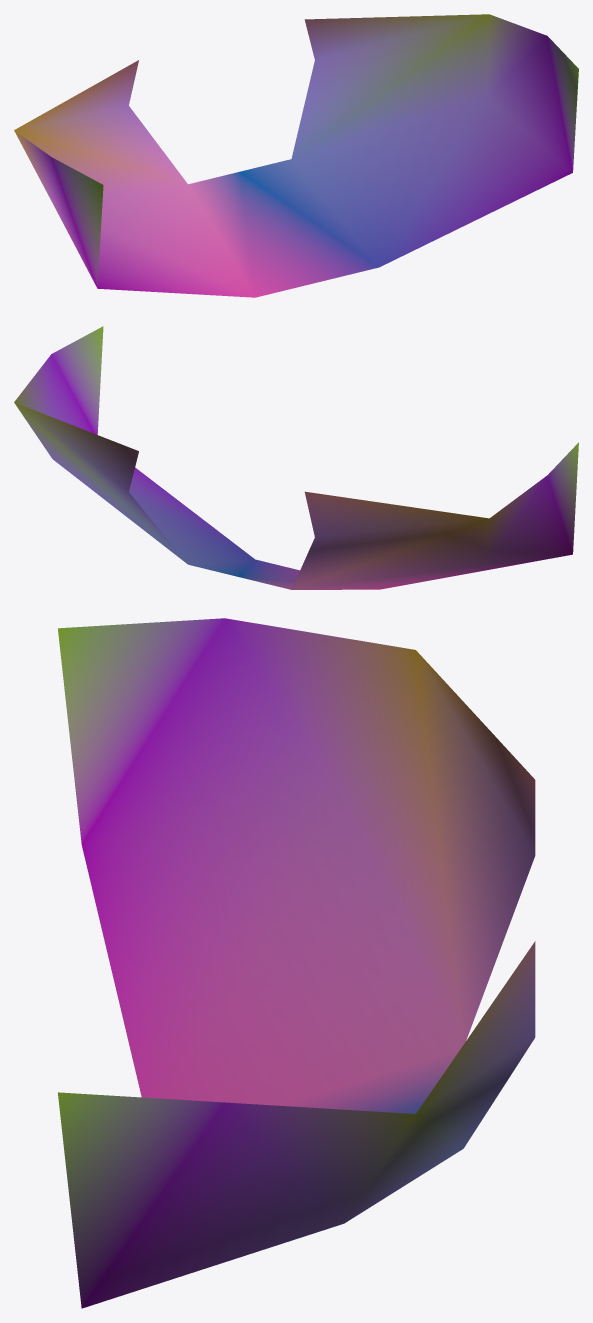
3 views of the same model, one above another, from view 1: azimuth 30°, elevation 25°; view 2: azimuth 150°, elevation 25°; view 3: azimuth 270°, elevation 25° (orthographic). The views are drawn at different scales.
Visible parts, largest first — view 1: part; view 2: part; view 3: part.
Part boxes in pixels (x1,y1,x2,y2): part: (14,14,578,297); part: (14,326,578,589); part: (58,618,535,1308).
Size of the model in its own units: 48 by 16 by 20.
